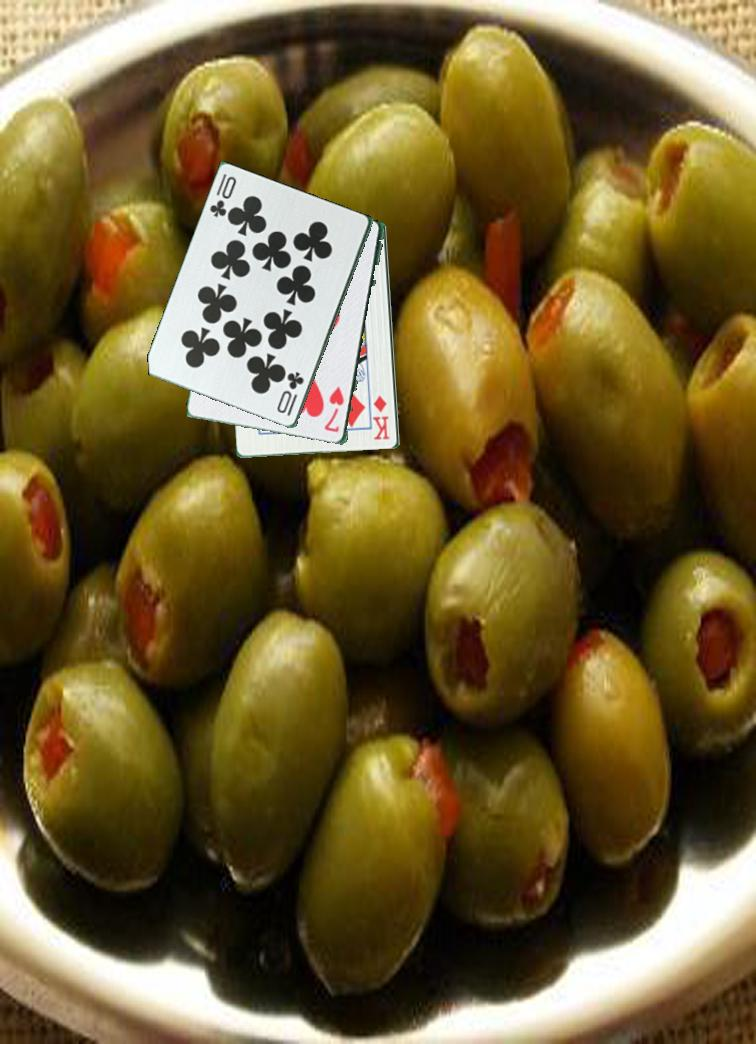7h: (322, 383, 347, 439)
kd: (371, 392, 393, 443)
tc: (272, 363, 307, 419), (206, 171, 240, 221)
